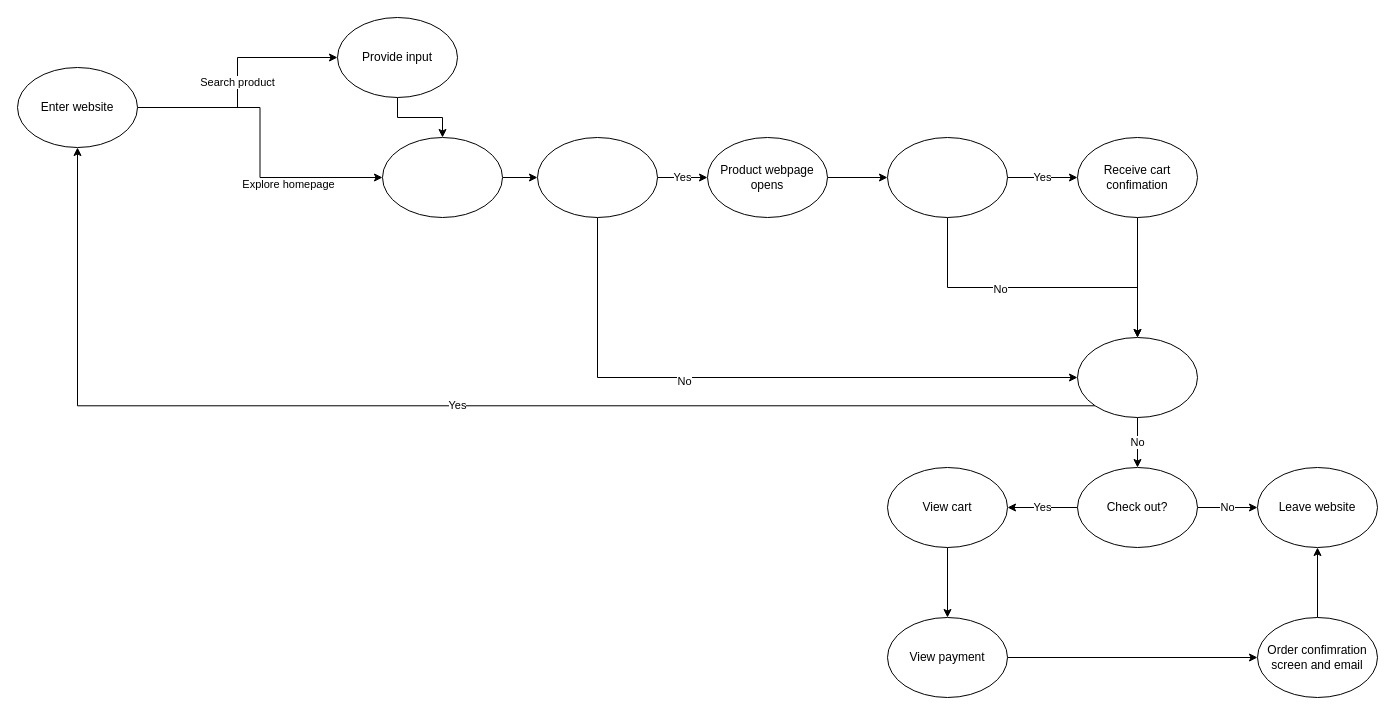
Some shapes in this 1395 by 715 pixel diagram are drawn without their labels. Here are the shapes that lost their labels. From the top down, the centre of each, then its label:
At pixel 442 177: "Look over products".
At pixel 597 177: "View specific product?".
At pixel 947 177: "Add to cart?".
At pixel 1137 377: "Continue shopping?".
